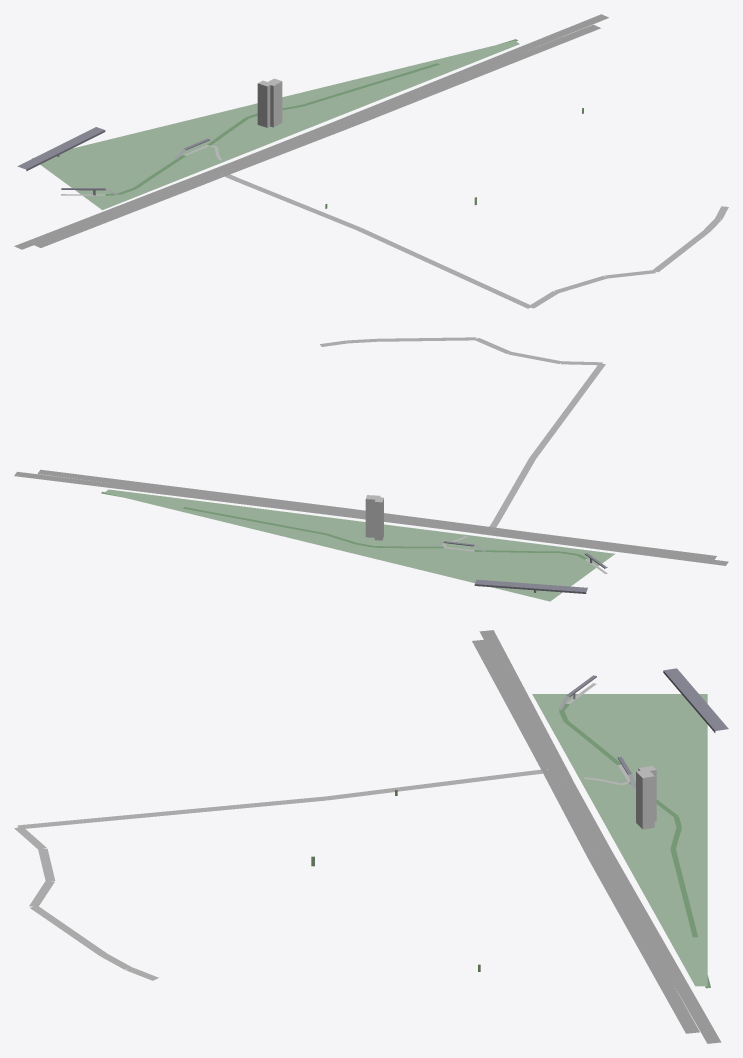
3 views of the same model, one above another, from view 1: azimuth 30°, elevation 25°; view 2: azimuth 150°, elevation 25°; view 3: azimuth 270°, elevation 25° (orthographic). The views are drawn at different scales.
Size of the model in its own units: 705 by 41.43 by 517.
